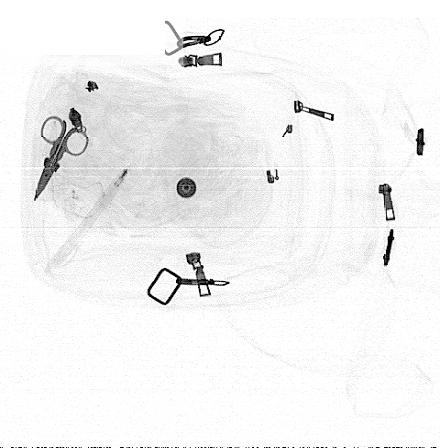Scissors: (33, 114, 89, 203)
